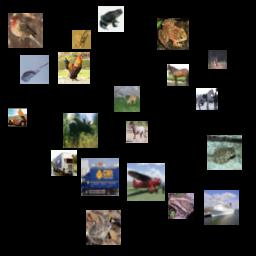airplane: (127, 163, 165, 201), (20, 55, 49, 84)
bird: (8, 13, 43, 48), (58, 52, 90, 84)
deer: (63, 113, 98, 148), (114, 86, 140, 112), (208, 50, 227, 69)
frog: (86, 210, 121, 245), (207, 135, 242, 170), (157, 18, 189, 50), (98, 6, 124, 32), (168, 193, 194, 219), (72, 30, 91, 49)
ship: (204, 190, 239, 225)
truck: (81, 158, 119, 196), (51, 150, 77, 176), (8, 108, 27, 127)
